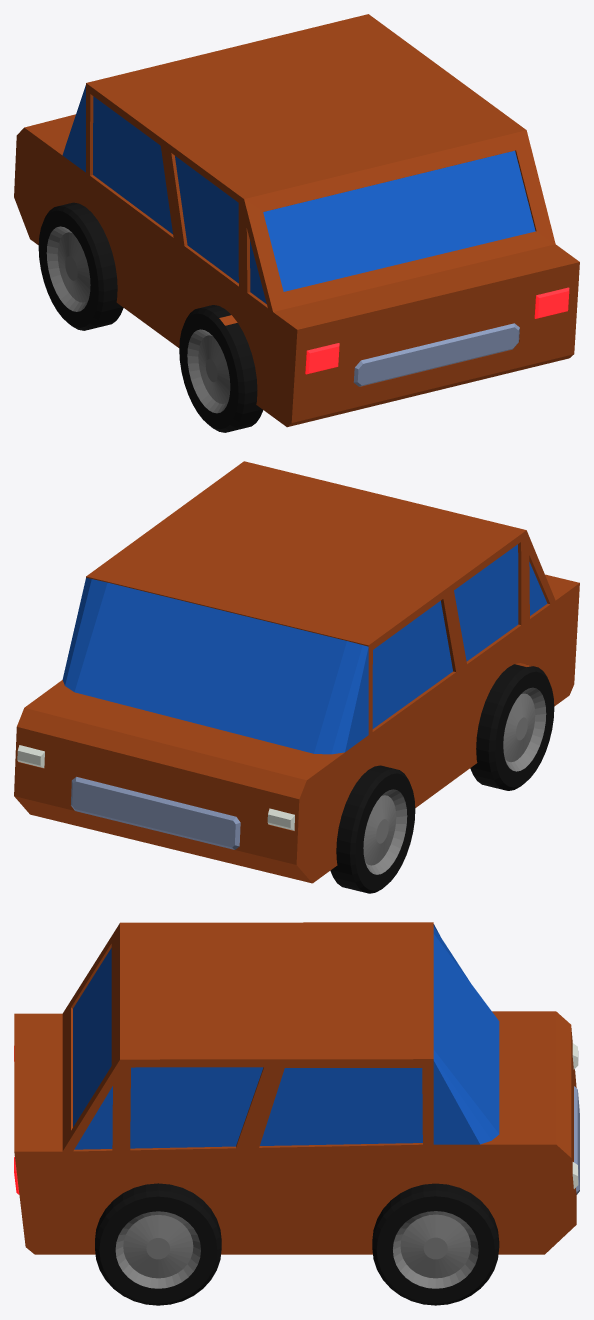
Rendered from caric (1).fbx.
The picture shows the model from 3 angles, top to bottom: view 1: azimuth 30°, elevation 25°; view 2: azimuth 150°, elevation 25°; view 3: azimuth 270°, elevation 25°; orthographic projection.
Visible parts, largest first — view 1: Cube; view 2: Cube; view 3: Cube.
Part boxes in pixels (<box>): Cube: <box>14,14,579,432</box>; Cube: <box>14,461,579,893</box>; Cube: <box>14,922,579,1305</box>.
Bounding box in the file's own units: 225 × 163 × 350.
